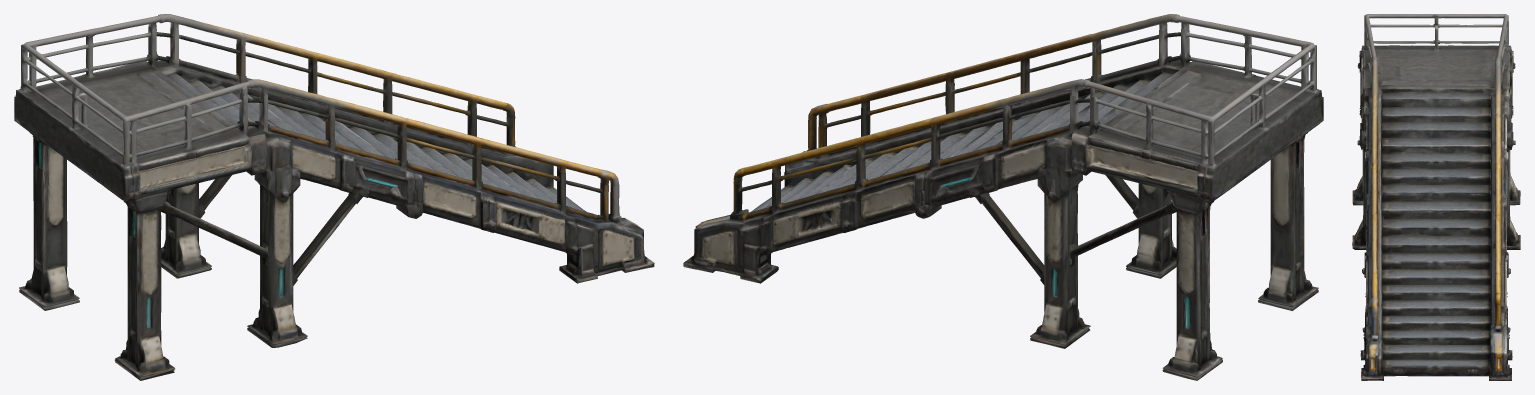
The model's file is kairox-staircase.glb.
3 renders of one model, left to right at view 1: azimuth 30°, elevation 25°; view 2: azimuth 150°, elevation 25°; view 3: azimuth 270°, elevation 25°, orthographic. The views are drawn at different scales.
Parts seen in each view (by area): view 1: kairox-staircase; view 2: kairox-staircase; view 3: kairox-staircase.
Part boxes in pixels (<box>): kairox-staircase: <box>14,14,654,380</box>; kairox-staircase: <box>683,14,1323,380</box>; kairox-staircase: <box>1352,14,1520,380</box>.
Size of the model in its own units: 10.06 by 5 by 4.
Materials: 1 (1 with a texture image).
